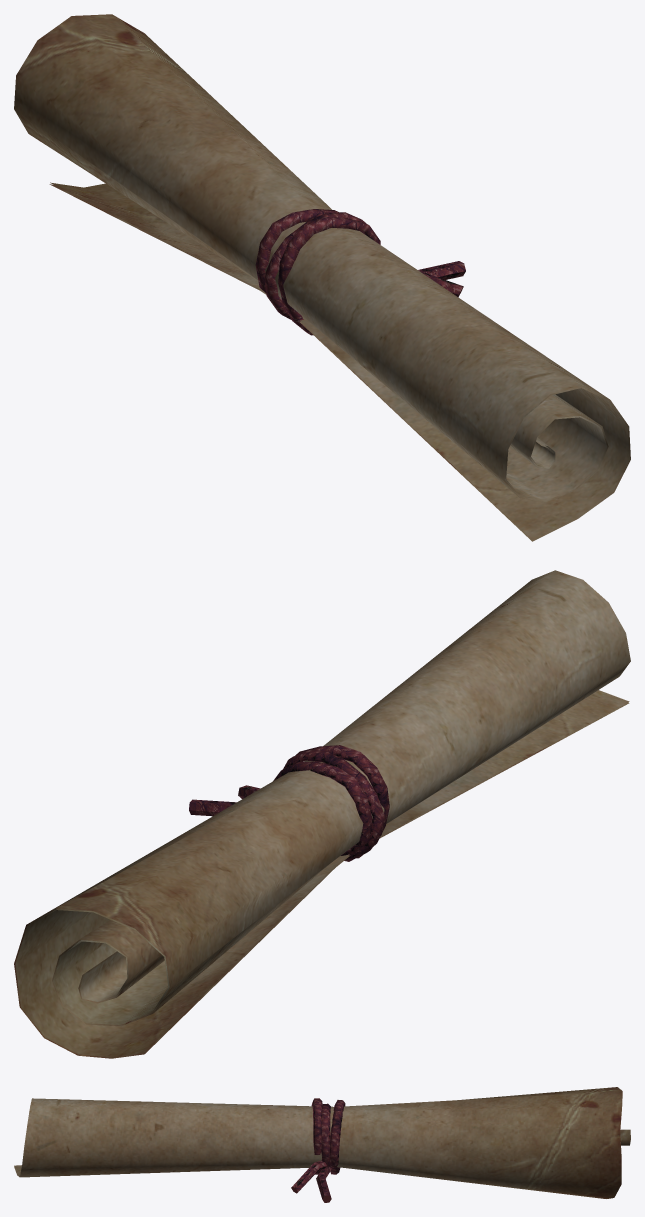
Rendered from Scroll_A.FBX.
3 renders of one model, top to bottom at view 1: azimuth 30°, elevation 25°; view 2: azimuth 150°, elevation 25°; view 3: azimuth 270°, elevation 25°, orthographic. The views are drawn at different scales.
Parts seen in each view (by area): view 1: Scroll_A; view 2: Scroll_A; view 3: Scroll_A.
Part boxes in pixels (<box>): Scroll_A: <box>14,14,630,541</box>; Scroll_A: <box>14,570,630,1058</box>; Scroll_A: <box>14,1087,630,1202</box>.
Bounding box in the file's own units: 14.68 × 10.83 × 60.85.
